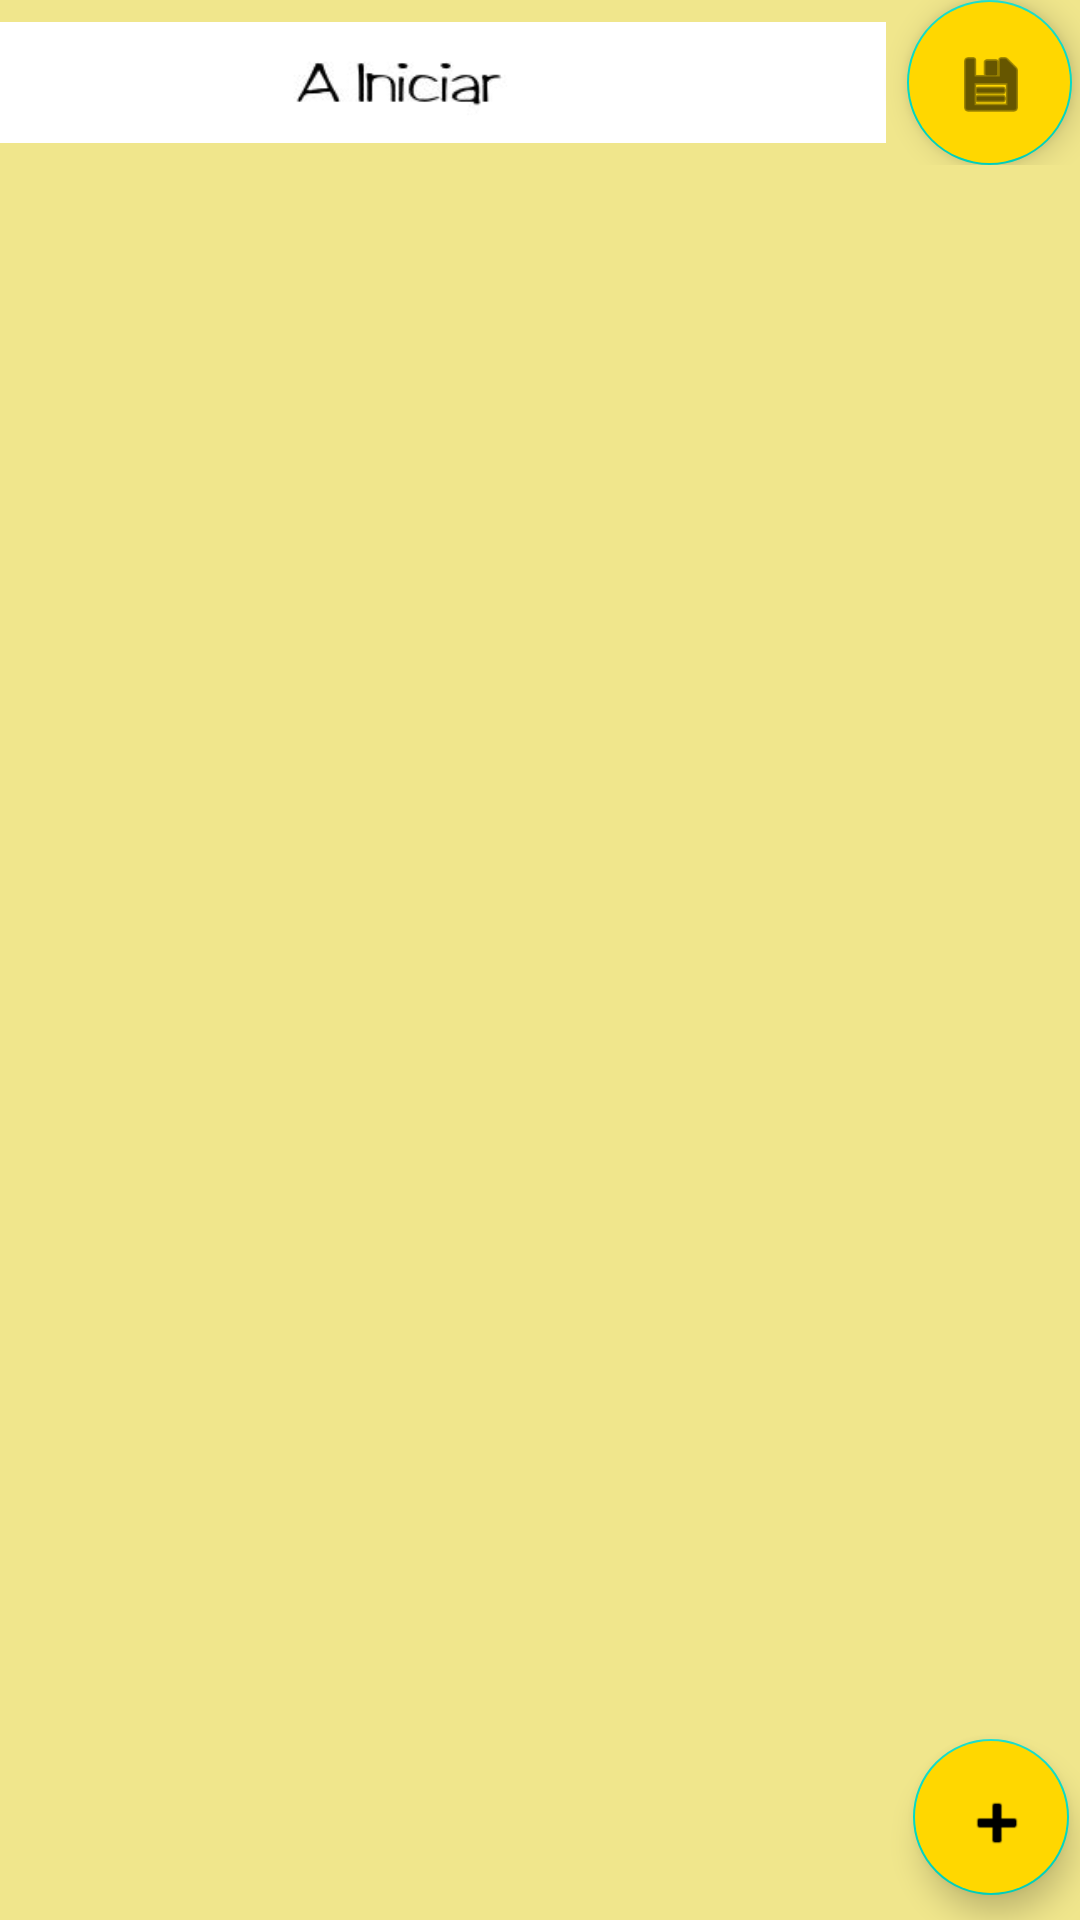

Icon click points for this 1080×1920 phone screenshot, format (x=x, y=y):
add: (x=991, y=1817)
save: (x=989, y=82)
